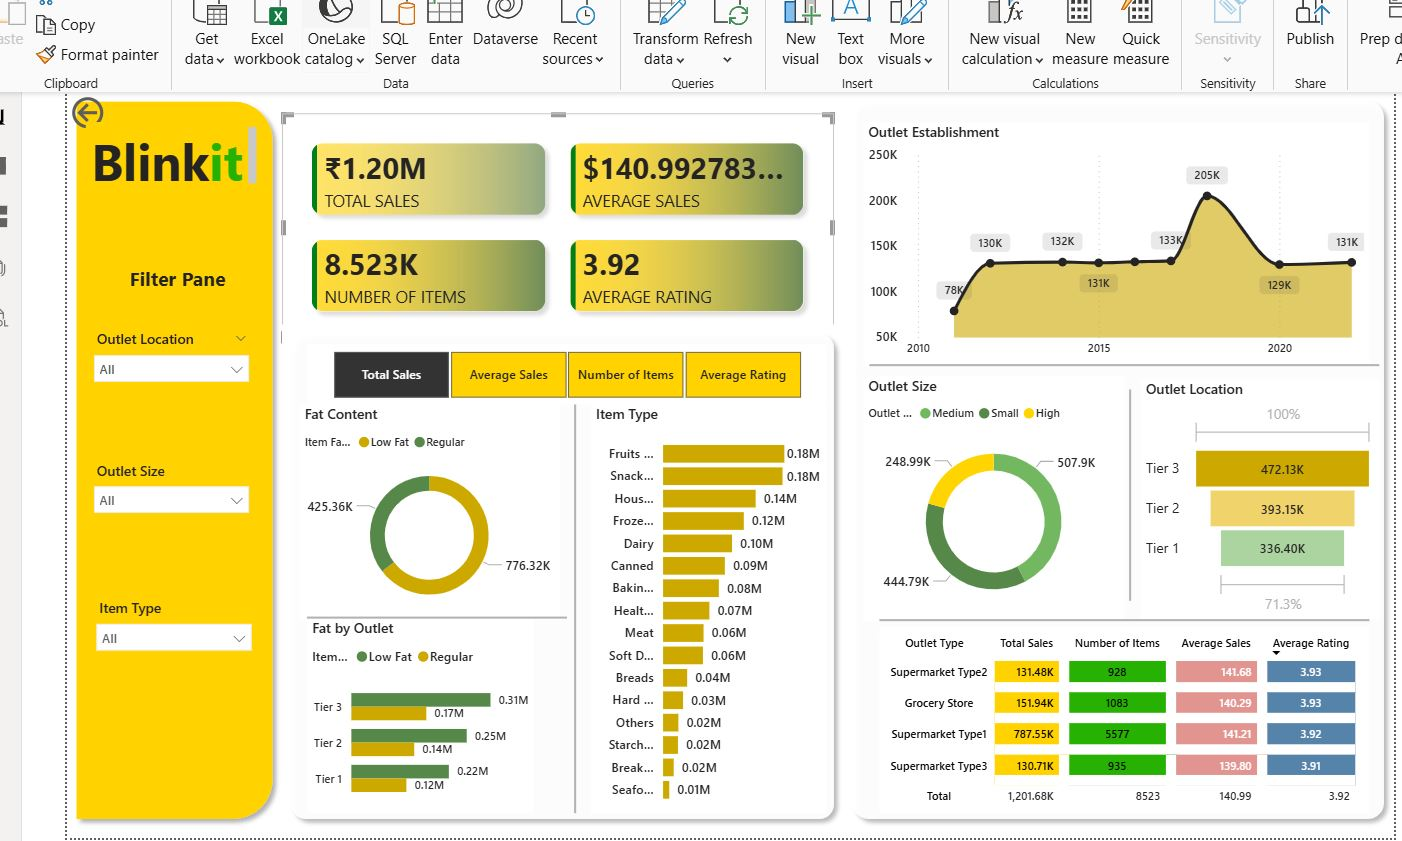

Layout of this report page (visuals, bound fields, positions):
{"tool":"powerbi","page":{"name":"Page 1","canvas":[1280,720],"ordinal":0},"visuals":[{"type":"shape","box":[0,0,207.5,710.6],"z":0},{"type":"cardVisual","fields":{"Data":["BlinkIT Grocery Data.Total Sales","BlinkIT Grocery Data.Average Sales","BlinkIT Grocery Data.Number of Items","BlinkIT Grocery Data.Average Rating"]},"box":[207.5,20.5,532,220.8],"z":1000},{"type":"actionButton","box":[0,0,100,40],"z":2000},{"type":"shape","box":[207.5,224.4,541.7,486.2],"z":3000},{"type":"donutChart","title":"Fat Content","fields":{"Y":["BlinkIT Grocery Data.Total Sales"],"Category":["BlinkIT Grocery Data.Item Fat Content"]},"box":[224.4,301.6,250.9,207.5],"z":4000},{"type":"slicer","fields":{"Values":["Metrics.Metrics"]},"box":[231.6,243.7,500.7,57.9],"z":5000},{"type":"clusteredBarChart","title":"Fat by Outlet","fields":{"Y":["BlinkIT Grocery Data.Total Sales"],"Category":["BlinkIT Grocery Data.Outlet Location Type"],"Series":["BlinkIT Grocery Data.Item Fat Content"]},"box":[231.6,507.9,219.6,188.2],"z":6000},{"type":"barChart","title":" Item Type","fields":{"Y":["BlinkIT Grocery Data.Total Sales"],"Category":["BlinkIT Grocery Data.Item Type"]},"box":[505.5,301.6,226.8,394.5],"z":7000},{"type":"shape","box":[231.6,492.2,250.9,30.2],"z":8000},{"type":"shape","box":[475.3,301.6,30.2,394.5],"z":9000},{"type":"shape","box":[749.2,0,530.8,710.6],"z":10000},{"type":"lineChart","title":"Outlet Establishment ","fields":{"Category":["BlinkIT Grocery Data.Outlet Establishment Year"],"Y":["BlinkIT Grocery Data.Total Sales"]},"box":[768.5,29,488.6,235.3],"z":11000},{"type":"donutChart","title":"Outlet Size","fields":{"Y":["BlinkIT Grocery Data.Total Sales"],"Category":["BlinkIT Grocery Data.Outlet Size"]},"box":[768.5,273.9,252.1,236.5],"z":12000},{"type":"funnel","title":"Outlet Location ","fields":{"Y":["BlinkIT Grocery Data.Total Sales"],"Category":["BlinkIT Grocery Data.Outlet Location Type"]},"box":[1036.3,277.5,230.4,231.6],"z":13000},{"type":"pivotTable","fields":{"Rows":["BlinkIT Grocery Data.Outlet Type"],"Values":["BlinkIT Grocery Data.Total Sales","BlinkIT Grocery Data.Number of Items","BlinkIT Grocery Data.Average Sales","BlinkIT Grocery Data.Average Rating"]},"box":[784.2,516.4,472.9,179.8],"z":14000},{"type":"shape","box":[774.5,248.5,492.2,30.2],"z":15000},{"type":"shape","box":[1011,287.1,30.2,203.9],"z":16000},{"type":"shape","box":[784.2,494.6,472.9,30.2],"z":17000},{"type":"slicer","fields":{"Values":["BlinkIT Grocery Data.Outlet Location Type"]},"box":[15.7,224.4,170.1,77.2],"z":18000},{"type":"slicer","fields":{"Values":["BlinkIT Grocery Data.Outlet Size"]},"box":[15.7,351.1,170.1,77.2],"z":19000},{"type":"slicer","fields":{"Values":["BlinkIT Grocery Data.Item Type"]},"box":[18.1,483.8,170.1,77.2],"z":20000},{"type":"textbox","box":[27.7,153.2,138.7,36.2],"z":21000},{"type":"textbox","box":[37.7,163.2,138.7,36.2],"z":22000},{"type":"textbox","box":[18.1,29,170.1,68.8],"z":23000}]}

Visuals, with their boxes on the page's 1280x720 design canvas (x1, y1, x2, y2). These are canvas units, not pixel positions in the 1402x841 screenshot, which may show the page scaled, cropped or inside an application window:
shape: x1=0, y1=0, x2=208, y2=711
cardVisual - BlinkIT Grocery Data.Total Sales x BlinkIT Grocery Data.Average Sales: x1=208, y1=20, x2=740, y2=241
actionButton: x1=0, y1=0, x2=100, y2=40
shape: x1=208, y1=224, x2=749, y2=711
"Fat Content" donutChart: x1=224, y1=302, x2=475, y2=509
slicer - Metrics.Metrics: x1=232, y1=244, x2=732, y2=302
"Fat by Outlet" clusteredBarChart: x1=232, y1=508, x2=451, y2=696
" Item Type" barChart: x1=506, y1=302, x2=732, y2=696
shape: x1=232, y1=492, x2=482, y2=522
shape: x1=475, y1=302, x2=506, y2=696
shape: x1=749, y1=0, x2=1280, y2=711
"Outlet Establishment " lineChart: x1=768, y1=29, x2=1257, y2=264
"Outlet Size" donutChart: x1=768, y1=274, x2=1021, y2=510
"Outlet Location " funnel: x1=1036, y1=278, x2=1267, y2=509
pivotTable - BlinkIT Grocery Data.Outlet Type x BlinkIT Grocery Data.Total Sales: x1=784, y1=516, x2=1257, y2=696
shape: x1=774, y1=248, x2=1267, y2=279
shape: x1=1011, y1=287, x2=1041, y2=491
shape: x1=784, y1=495, x2=1257, y2=525
slicer - BlinkIT Grocery Data.Outlet Location Type: x1=16, y1=224, x2=186, y2=302
slicer - BlinkIT Grocery Data.Outlet Size: x1=16, y1=351, x2=186, y2=428
slicer - BlinkIT Grocery Data.Item Type: x1=18, y1=484, x2=188, y2=561
textbox: x1=28, y1=153, x2=166, y2=189
textbox: x1=38, y1=163, x2=176, y2=199
textbox: x1=18, y1=29, x2=188, y2=98
